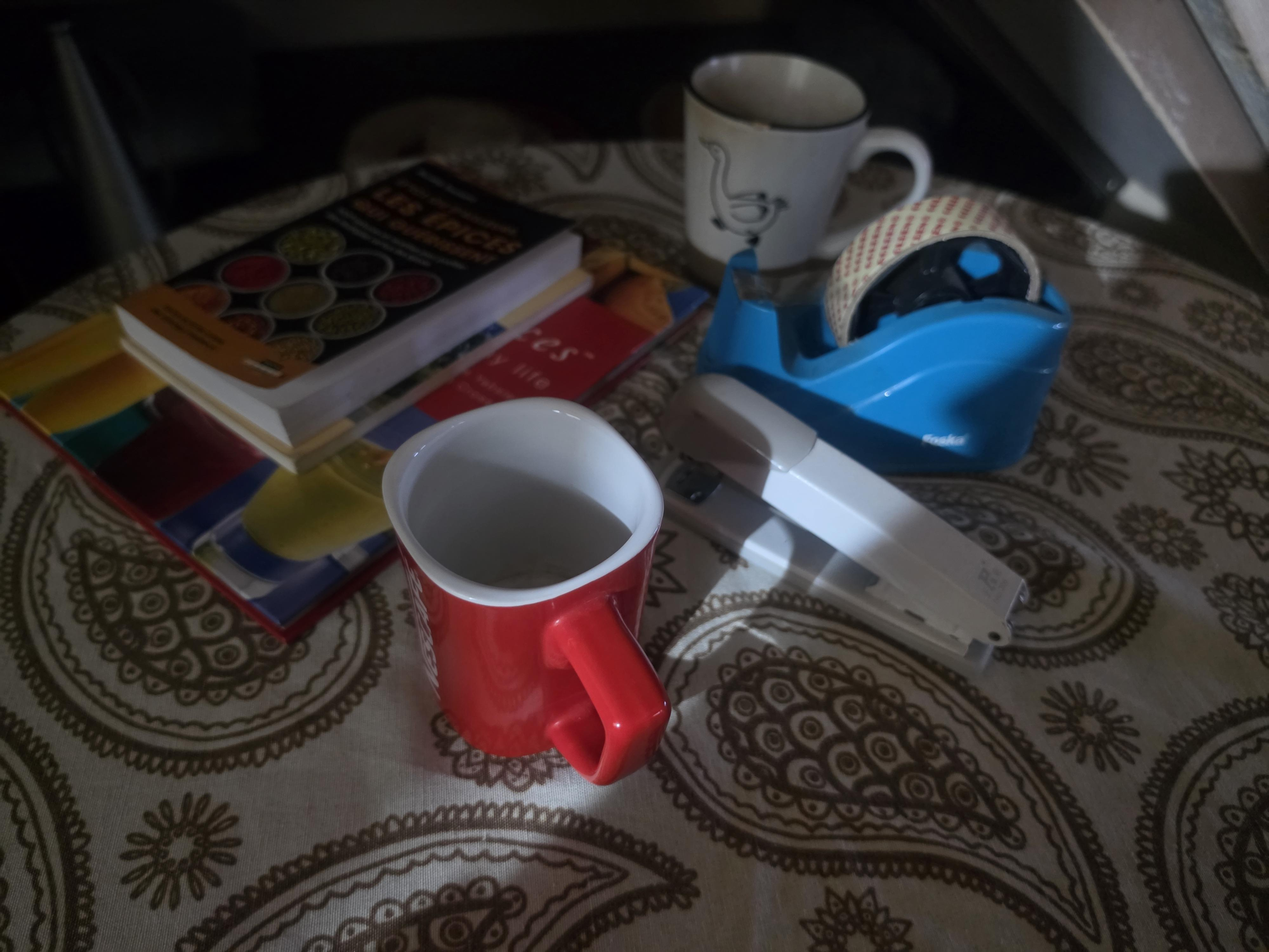mug: (381, 397, 671, 786), (683, 50, 935, 273)
